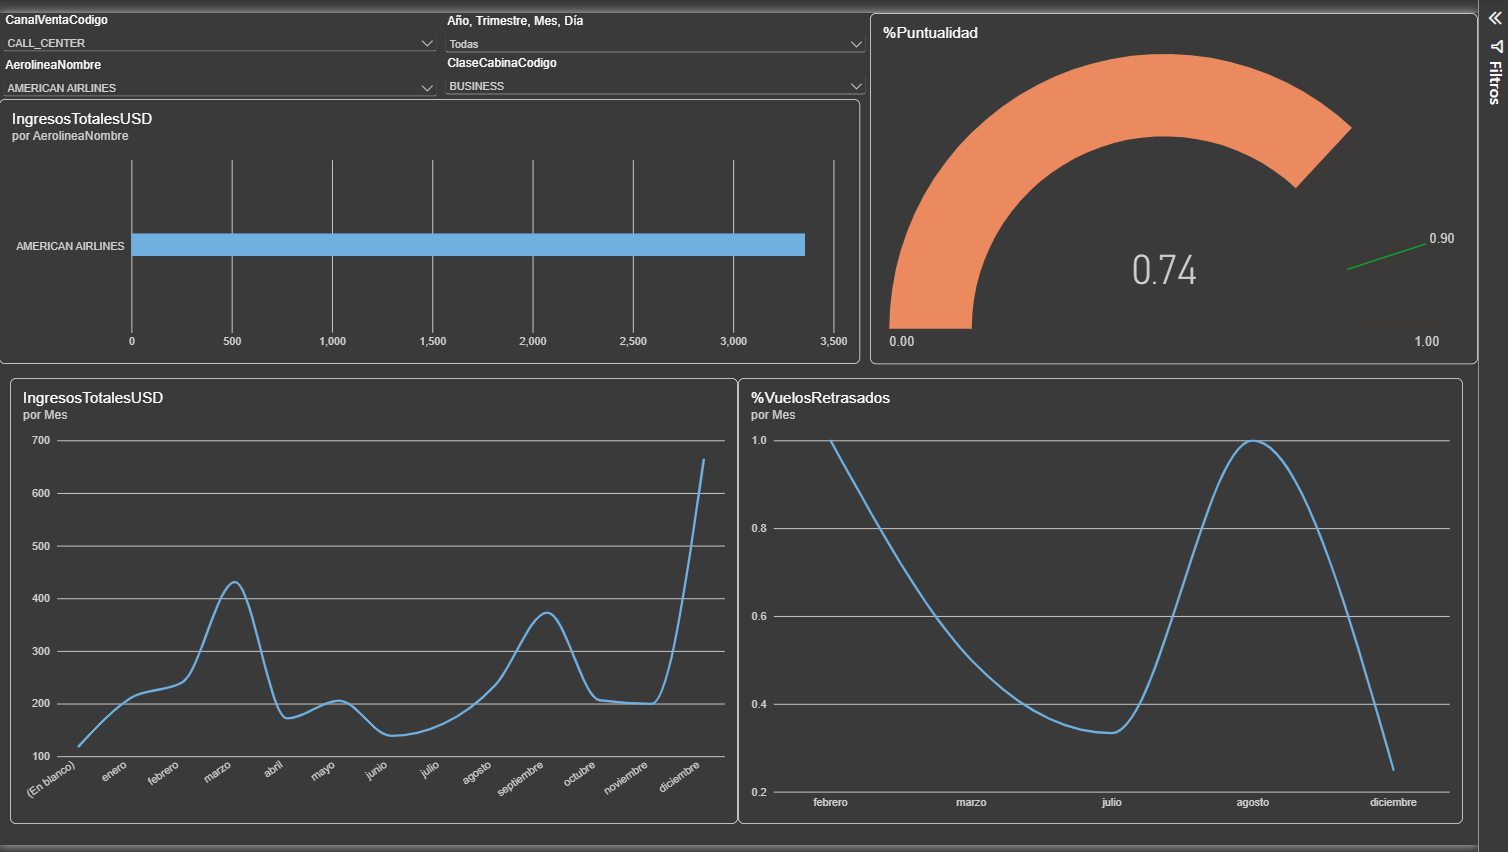

What the dashboard file says about the page in this screenshot:
{"tool":"powerbi","page":{"name":"Página 1","canvas":[1920,1080],"ordinal":0},"visuals":[{"type":"clusteredBarChart","fields":{"Category":["dwh DimAerolinea.AerolineaNombre"],"Y":["dwh FactVueloPasajero.IngresosTotalesUSD"]},"box":[0,112.2,1118.4,343.8],"z":0},{"type":"lineChart","fields":{"Category":["dwh DimFecha.Fecha.Variación.Jerarquía de fechas.Año","dwh DimFecha.Fecha.Variación.Jerarquía de fechas.Trimestre","dwh DimFecha.Fecha.Variación.Jerarquía de fechas.Mes","dwh DimFecha.Fecha.Variación.Jerarquía de fechas.Día"],"Y":["dwh FactVueloPasajero.%VuelosRetrasados"]},"box":[959.1,474.1,941,579.1],"z":1000},{"type":"lineChart","fields":{"Category":["dwh DimFecha.Fecha.Variación.Jerarquía de fechas.Año","dwh DimFecha.Fecha.Variación.Jerarquía de fechas.Trimestre","dwh DimFecha.Fecha.Variación.Jerarquía de fechas.Mes","dwh DimFecha.Fecha.Variación.Jerarquía de fechas.Día"],"Y":["dwh FactVueloPasajero.IngresosTotalesUSD"]},"box":[14.5,474.1,944.6,579.1],"z":2000},{"type":"gauge","fields":{"Y":["dwh FactVueloPasajero.%Puntualidad"]},"box":[1131,0,789,456],"z":3000},{"type":"slicer","fields":{"Values":["dwh DimCanalVenta.CanalVentaCodigo"]},"box":[0,0,573.7,57.9],"z":4000},{"type":"slicer","fields":{"Values":["dwh DimFecha.Fecha.Variación.Jerarquía de fechas.Año","dwh DimFecha.Fecha.Variación.Jerarquía de fechas.Trimestre","dwh DimFecha.Fecha.Variación.Jerarquía de fechas.Mes","dwh DimFecha.Fecha.Variación.Jerarquía de fechas.Día"]},"box":[573.7,1.8,557.4,56.1],"z":5000},{"type":"slicer","fields":{"Values":["dwh DimAerolinea.AerolineaNombre"]},"box":[0,57.9,573.7,54.3],"z":6000},{"type":"slicer","fields":{"Values":["dwh DimClaseCabina.ClaseCabinaCodigo"]},"box":[573.7,56.1,557.4,56.1],"z":7000}]}

Visuals, with their boxes in screenshot pixels (x1, y1, x2, y2):
clusteredBarChart - dwh DimAerolinea.AerolineaNombre x dwh FactVueloPasajero.IngresosTotalesUSD: bbox=[0, 91, 858, 357]
lineChart - dwh DimFecha.Fecha.Variación.Jerarquía de fechas.Año x dwh DimFecha.Fecha.Variación.Jerarquía de fechas.Trimestre: bbox=[735, 371, 1464, 820]
lineChart - dwh DimFecha.Fecha.Variación.Jerarquía de fechas.Año x dwh DimFecha.Fecha.Variación.Jerarquía de fechas.Trimestre: bbox=[3, 371, 735, 820]
gauge - dwh FactVueloPasajero.%Puntualidad: bbox=[868, 4, 1479, 357]
slicer - dwh DimCanalVenta.CanalVentaCodigo: bbox=[0, 4, 437, 49]
slicer - dwh DimFecha.Fecha.Variación.Jerarquía de fechas.Año x dwh DimFecha.Fecha.Variación.Jerarquía de fechas.Trimestre: bbox=[437, 5, 868, 49]
slicer - dwh DimAerolinea.AerolineaNombre: bbox=[0, 49, 437, 91]
slicer - dwh DimClaseCabina.ClaseCabinaCodigo: bbox=[437, 47, 868, 91]
